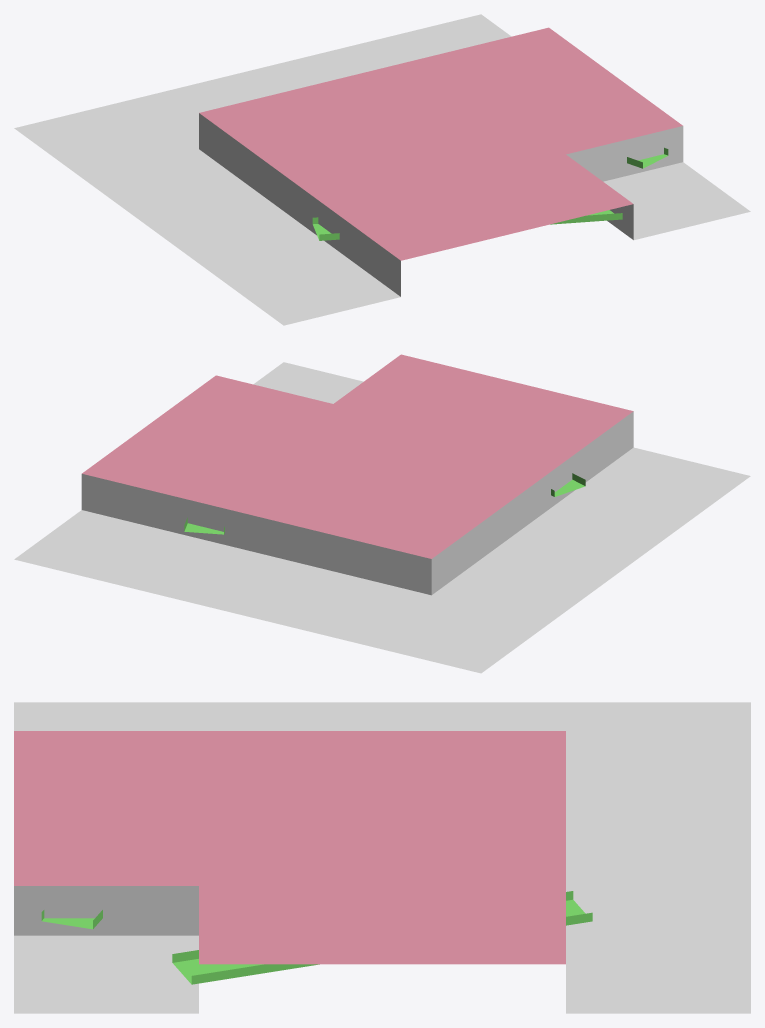
File: Floor_01_Ceiling_02b.fbx
3 renders of one model, top to bottom at view 1: azimuth 30°, elevation 25°; view 2: azimuth 150°, elevation 25°; view 3: azimuth 270°, elevation 25°, orthographic. The views are drawn at different scales.
Visible parts, largest first — view 1: Plane; view 2: Plane; view 3: Plane.
Part boxes in pixels (<box>): Plane: <box>14,14,750,325</box>; Plane: <box>14,354,750,673</box>; Plane: <box>14,702,750,1013</box>.
Size of the model in its own units: 200 by 14.84 by 200.
